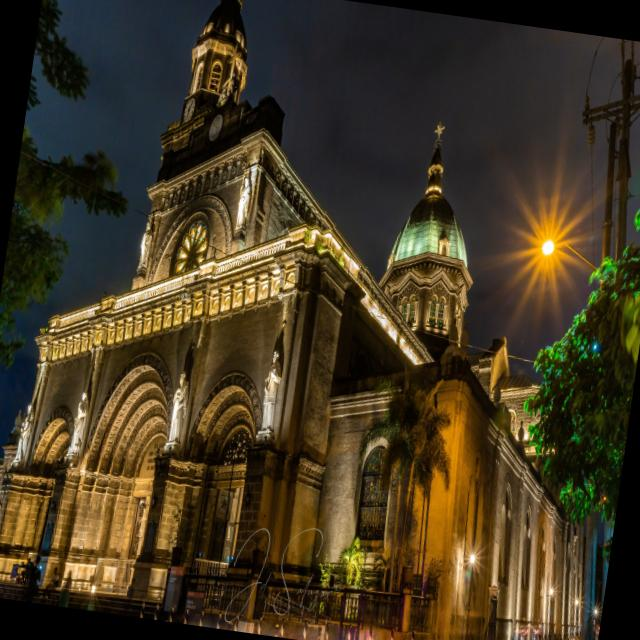Manila Cathedral: (0, 0, 609, 640)
